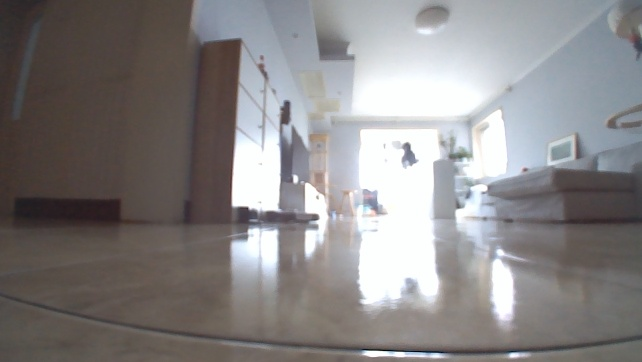cabinet: (190, 34, 282, 227)
sofa: (470, 137, 641, 225)
